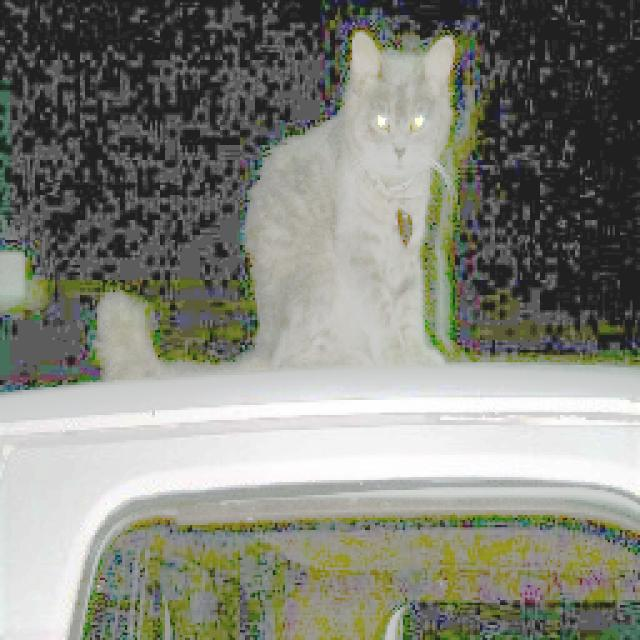cat: (100, 13, 485, 410)
